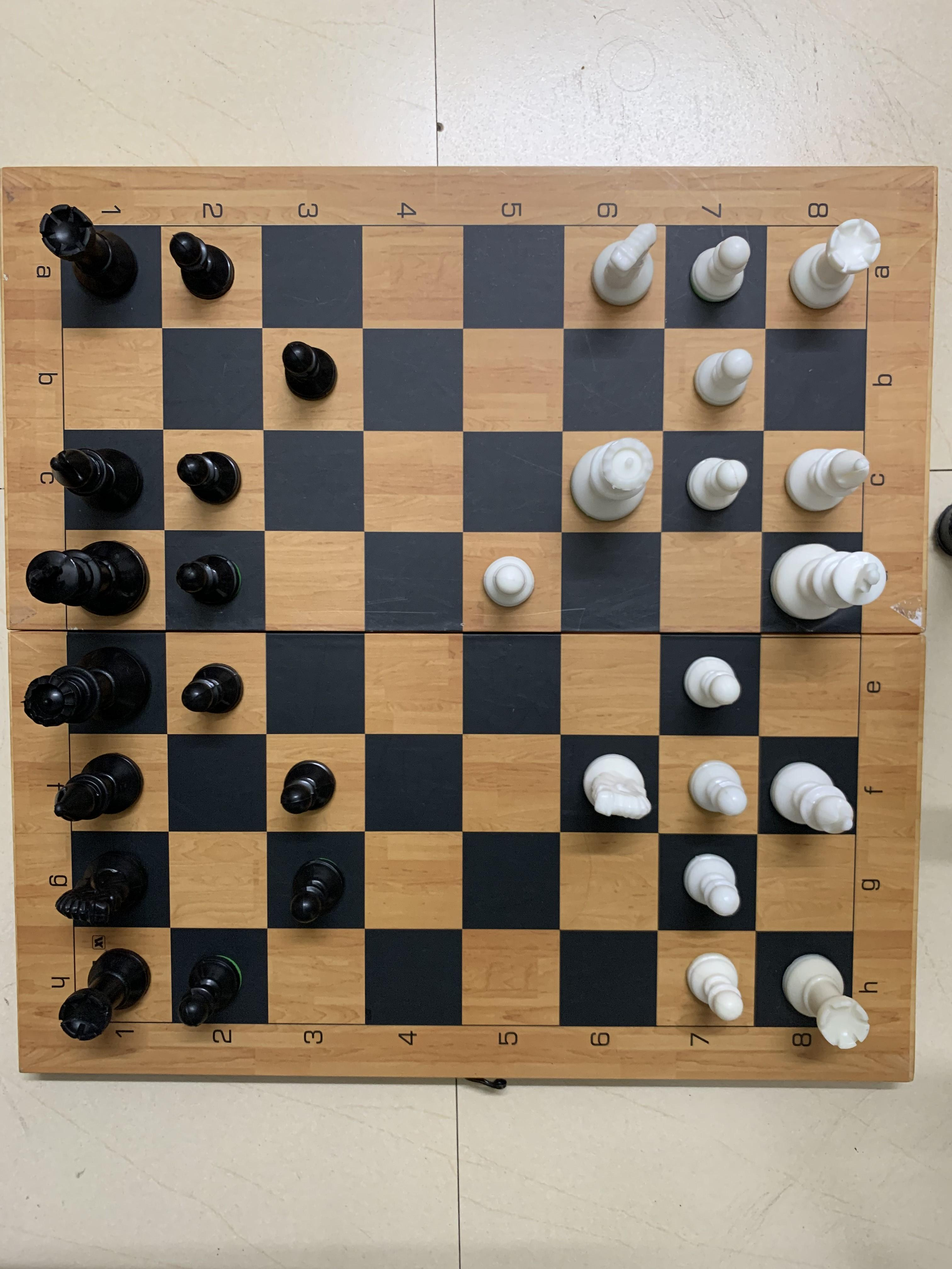black_bishop: (41, 738, 168, 838), (41, 428, 143, 513)
black_king: (9, 524, 161, 634)
black_knight: (49, 839, 159, 931)
black_pawn: (167, 933, 273, 1037), (161, 216, 254, 315), (167, 537, 258, 629), (168, 435, 265, 521), (271, 845, 358, 935), (172, 638, 260, 726), (266, 331, 356, 417), (274, 748, 351, 825)
black_queen: (16, 636, 158, 747)
black_rook: (33, 191, 158, 320), (52, 940, 164, 1055)
white_bishop: (757, 742, 867, 851), (782, 425, 880, 523)
white_king: (774, 535, 891, 632)
white_knight: (564, 738, 659, 843), (576, 222, 664, 318)
white_pawn: (677, 225, 770, 327), (663, 737, 761, 832), (671, 938, 760, 1029), (663, 845, 756, 927), (671, 332, 757, 417), (671, 644, 759, 726), (475, 539, 551, 624), (677, 436, 751, 519)
white_queen: (559, 420, 664, 535)
white_rook: (759, 933, 880, 1052), (778, 210, 893, 319)
